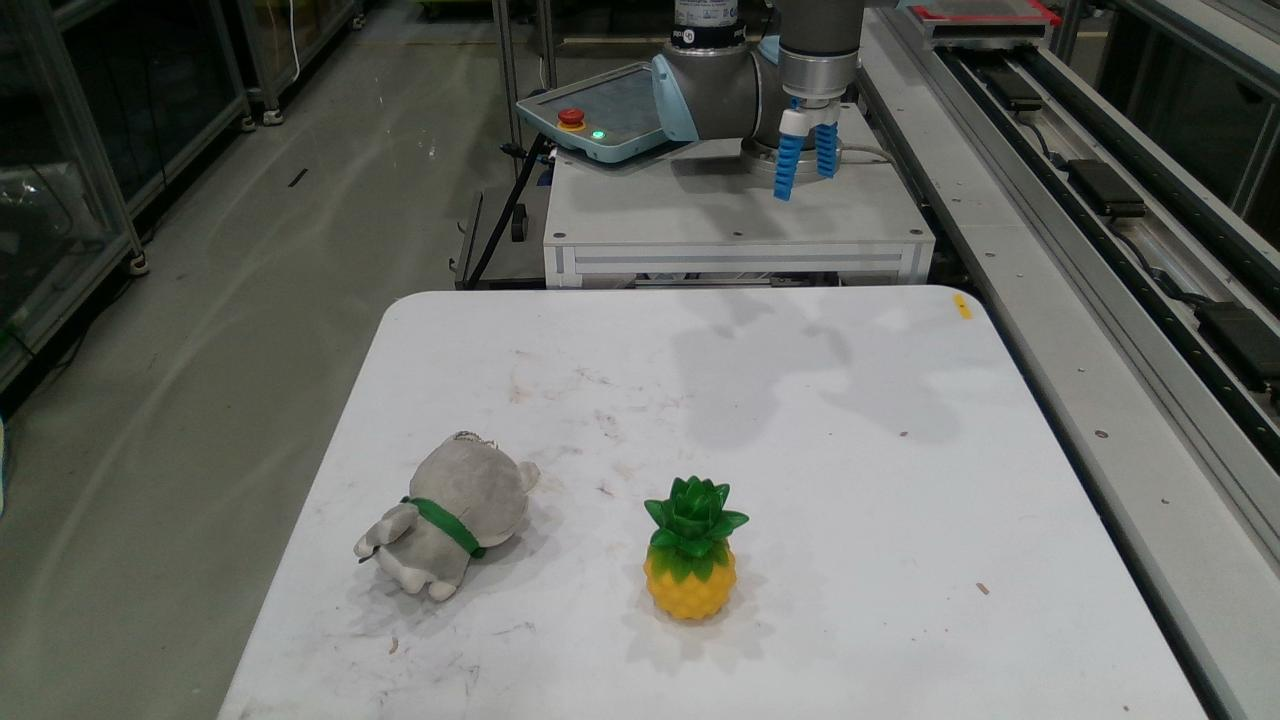UR5: (654, 2, 894, 163)
gripper_left: (774, 134, 802, 198)
gripper_right: (814, 124, 836, 176)
target: (356, 432, 536, 601), (648, 476, 746, 620)
